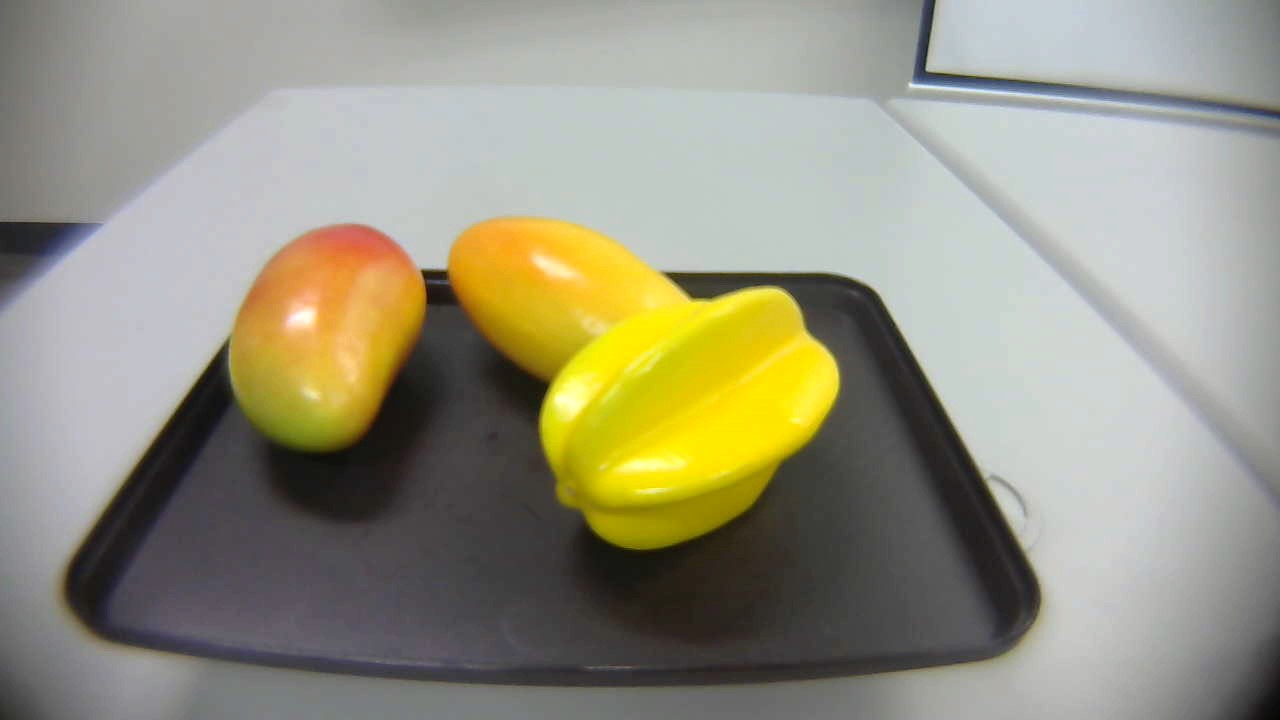red mango: (220, 220, 431, 461)
star fruit: (527, 288, 842, 552)
yellow mango: (440, 214, 699, 386)
